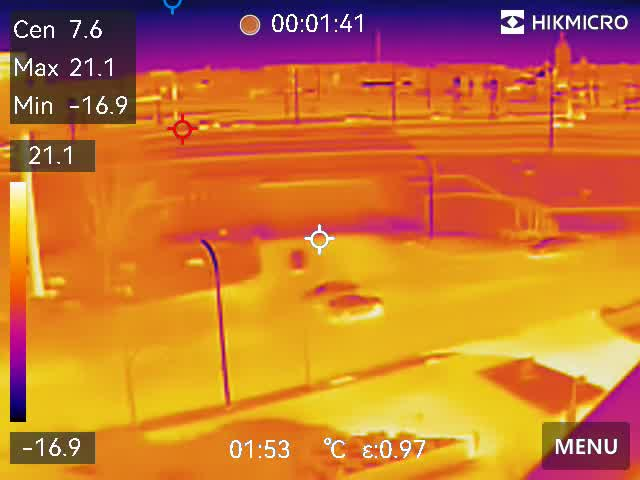smallCar: (521, 230, 585, 254), (300, 276, 364, 300), (287, 248, 308, 280)
vehicle: (323, 295, 391, 316), (335, 114, 372, 128), (229, 117, 259, 133), (545, 117, 577, 131), (195, 118, 221, 132), (424, 110, 451, 122)
